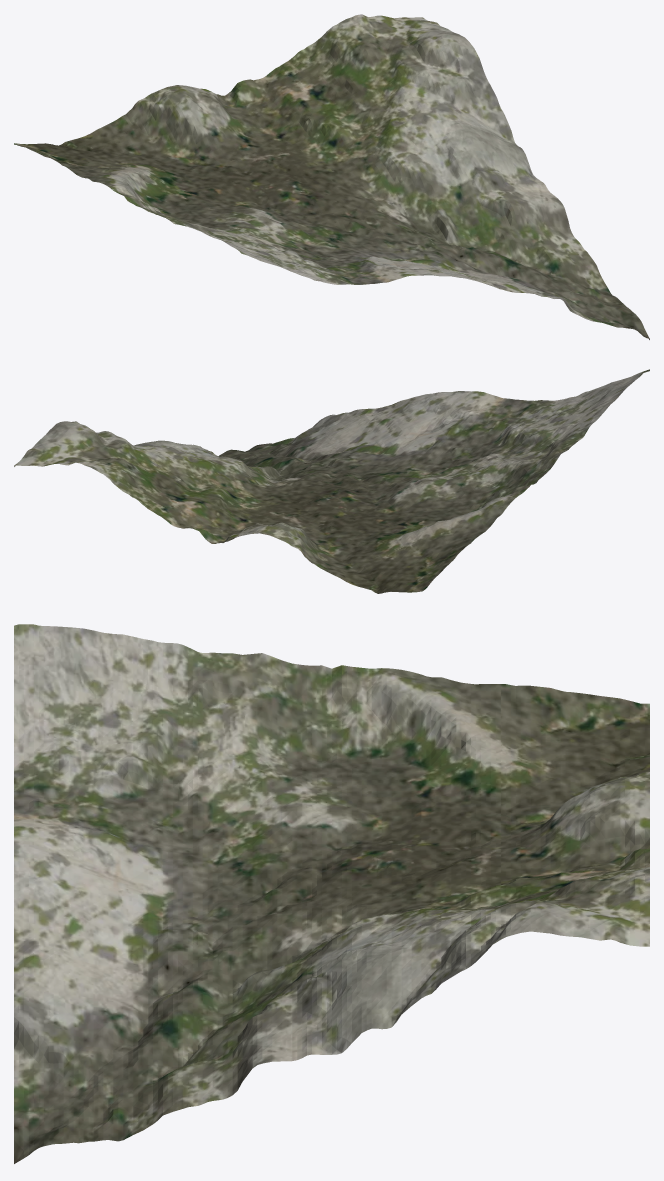
3 views of the same model, one above another, from view 1: azimuth 30°, elevation 25°; view 2: azimuth 150°, elevation 25°; view 3: azimuth 270°, elevation 25° (orthographic). The views are drawn at different scales.
Size of the model in its own units: 250 by 110 by 241.
1 material, 1 textured.
